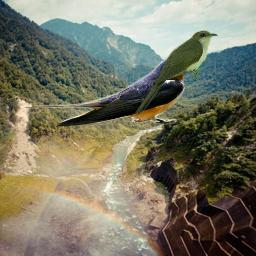Cuckoo: (135, 30, 218, 116)
Swallow: (24, 56, 189, 127)
